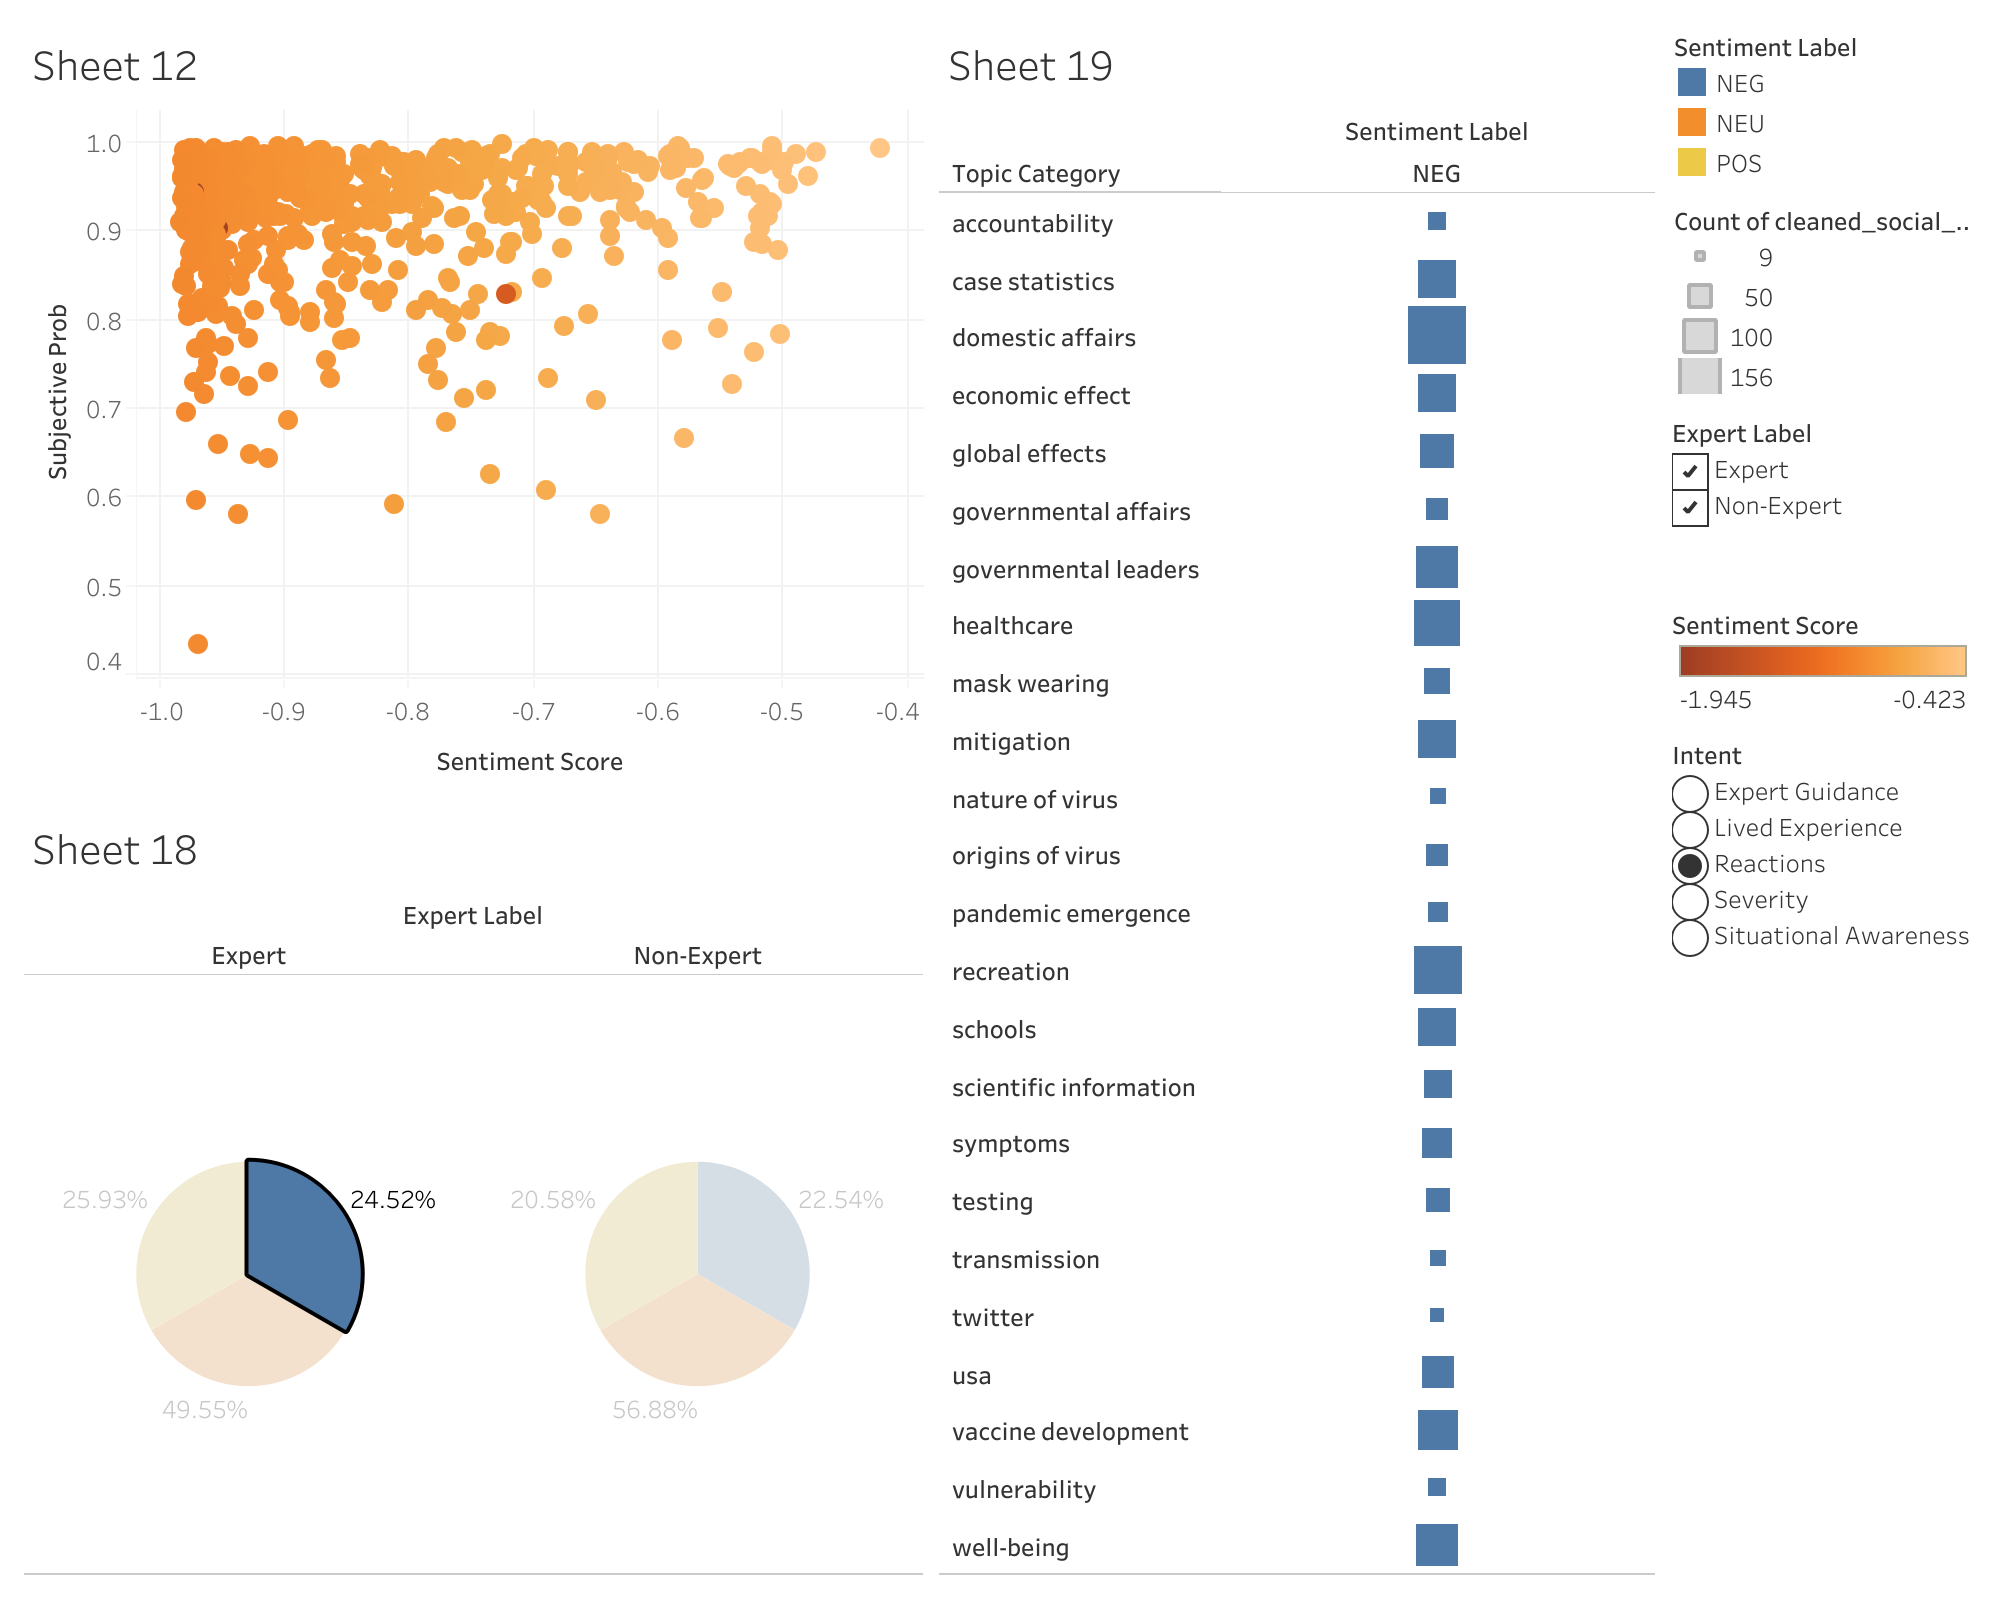

The page's visual inventory and layout, read from the dashboard file:
{"tool":"tableau","page":{"name":"Dashboard 1","canvas":[1000,800],"ordinal":0},"visuals":[{"type":"worksheet","title":"Sheet 12","mark":"Circle","rows":["subjective_prob"],"cols":["sentiment_score"],"box":[8,8,458,392]},{"type":"worksheet","title":"Sheet 19","mark":"Automatic","rows":["topic_category"],"cols":["sentiment_label"],"box":[466,8,366,784]},{"type":"legend","title":"Sheet 18","param":"[federated.1hcgmyx0i14dhx1au2s4s18qiwe2].[none:sentiment_label:nk]","box":[832,8,160,86]},{"type":"legend","title":"Sheet 19","param":"[federated.1hcgmyx0i14dhx1au2s4s18qiwe2].[__tableau_internal_object_id__].[cnt:c","box":[832,94,160,106]},{"type":"filter","title":"Sheet 19","param":"[federated.1hcgmyx0i14dhx1au2s4s18qiwe2].[none:expert_label:nk]","box":[832,200,160,89]},{"type":"legend","title":"Sheet 12","param":"[federated.1hcgmyx0i14dhx1au2s4s18qiwe2].[sum:sentiment_score:qk]","box":[832,289,160,65]},{"type":"filter","title":"Sheet 12","param":"[federated.1hcgmyx0i14dhx1au2s4s18qiwe2].[none:intent:nk]","box":[832,354,160,146]},{"type":"worksheet","title":"Sheet 18","mark":"Pie","cols":["expert_label"],"box":[8,400,458,392]}]}

Visuals, with their boxes in screenshot pixels (x1, y1, x2, y2), scaled from the page's 1000x800 canvas onto the 2000x1600 screenshot:
"Sheet 12" worksheet (Circle marks): BBox(16, 16, 932, 800)
"Sheet 19" worksheet: BBox(932, 16, 1664, 1584)
"Sheet 18" legend: BBox(1664, 16, 1984, 188)
"Sheet 19" legend: BBox(1664, 188, 1984, 400)
"Sheet 19" filter: BBox(1664, 400, 1984, 578)
"Sheet 12" legend: BBox(1664, 578, 1984, 708)
"Sheet 12" filter: BBox(1664, 708, 1984, 1000)
"Sheet 18" worksheet (Pie marks): BBox(16, 800, 932, 1584)
